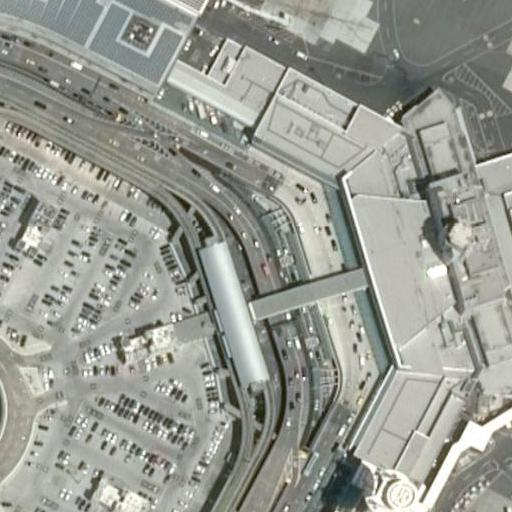Aircraft: (439, 502, 512, 512)
